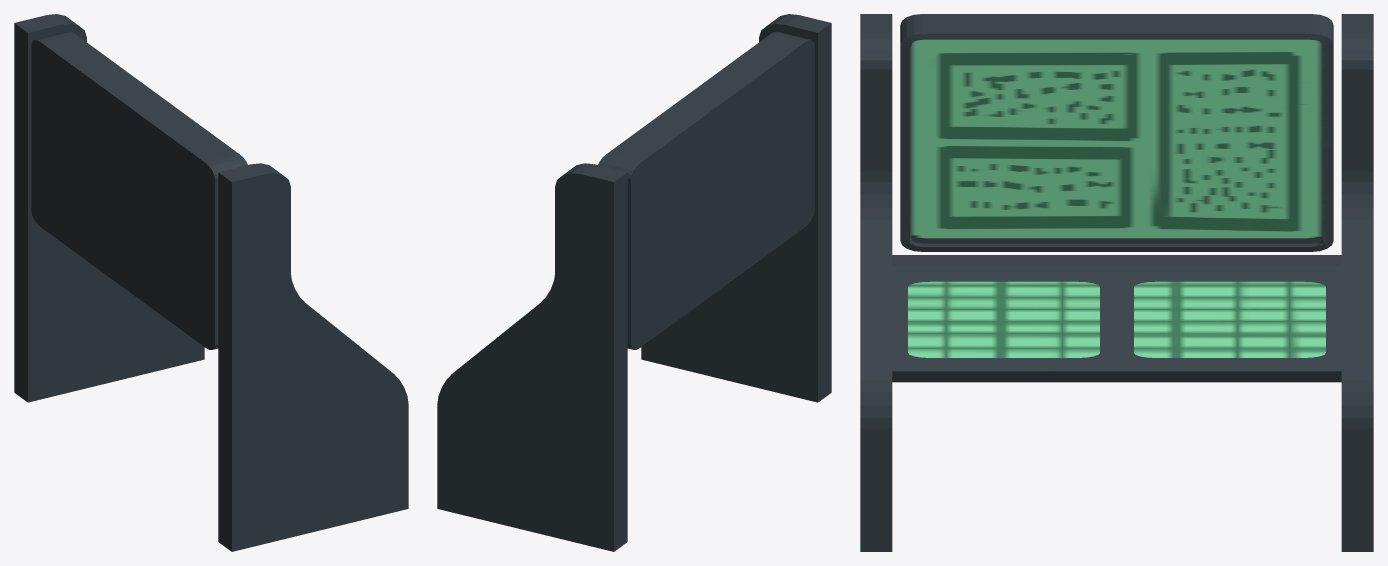
Rendered from Admin-pc2.glb.
The picture shows the model from 3 angles, left to right: view 1: azimuth 30°, elevation 25°; view 2: azimuth 150°, elevation 25°; view 3: azimuth 270°, elevation 25°; orthographic projection. The views are drawn at different scales.
Visible parts, largest first — view 1: Cube.003; view 2: Cube.003; view 3: Cube.003.
Part boxes in pixels (<box>): Cube.003: <box>14,14,408,551</box>; Cube.003: <box>437,14,831,551</box>; Cube.003: <box>860,14,1373,551</box>.
Bounding box in the file's own units: 3 × 6 × 6.4.
Materials: 1 (1 with a texture image).
